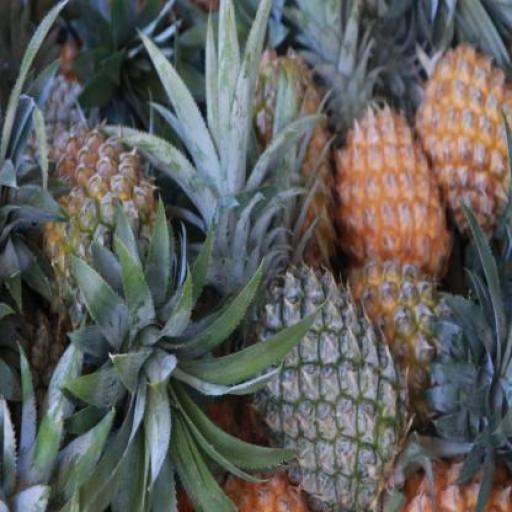------------------------------: (27, 125, 166, 335)
Pineapple - v8 v1: (332, 108, 446, 288), (418, 41, 508, 257)
